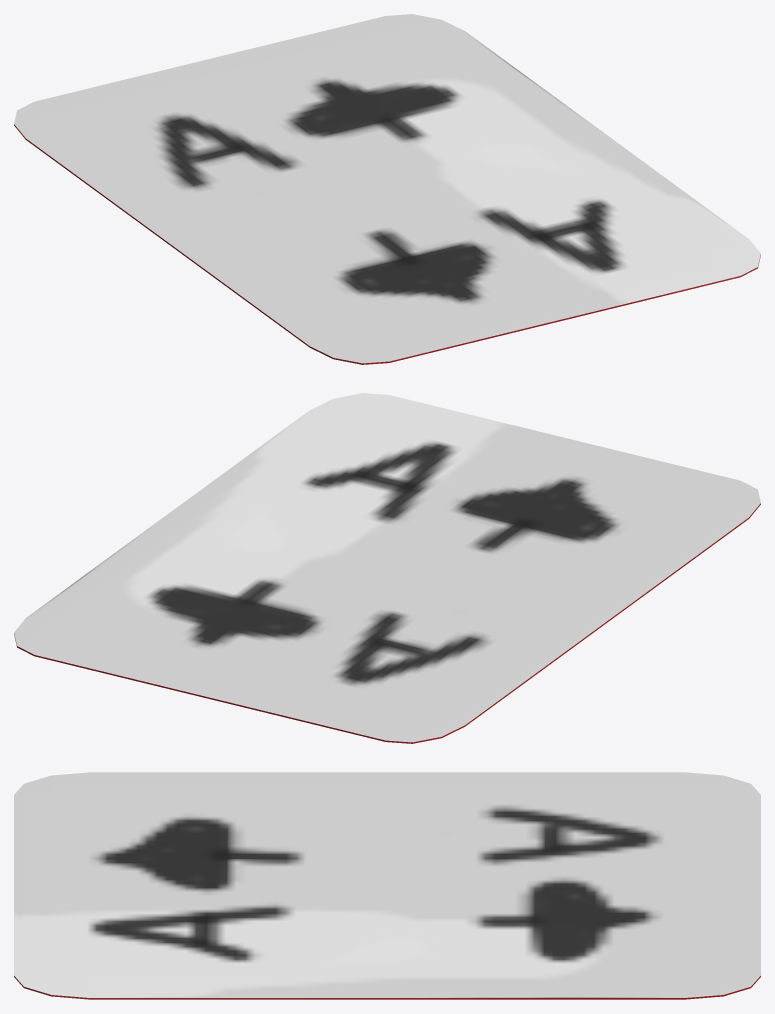
Rendered from card.fbx.
3 views of the same model, one above another, from view 1: azimuth 30°, elevation 25°; view 2: azimuth 150°, elevation 25°; view 3: azimuth 270°, elevation 25° (orthographic). The views are drawn at different scales.
Parts seen in each view (by area): view 1: Cube; view 2: Cube; view 3: Cube.
Boxes of the visible parts, <box> form: Cube: <box>14,14,760,364</box>; Cube: <box>14,393,760,743</box>; Cube: <box>14,772,760,999</box>.
Size of the model in its own units: 500 by 2 by 700.
